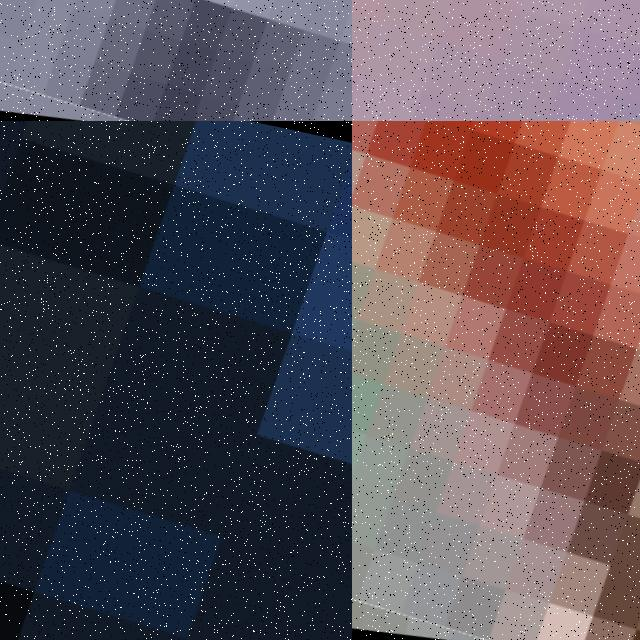drone: (0, 121, 352, 640), (352, 121, 640, 640), (0, 0, 352, 121), (352, 0, 640, 121)
